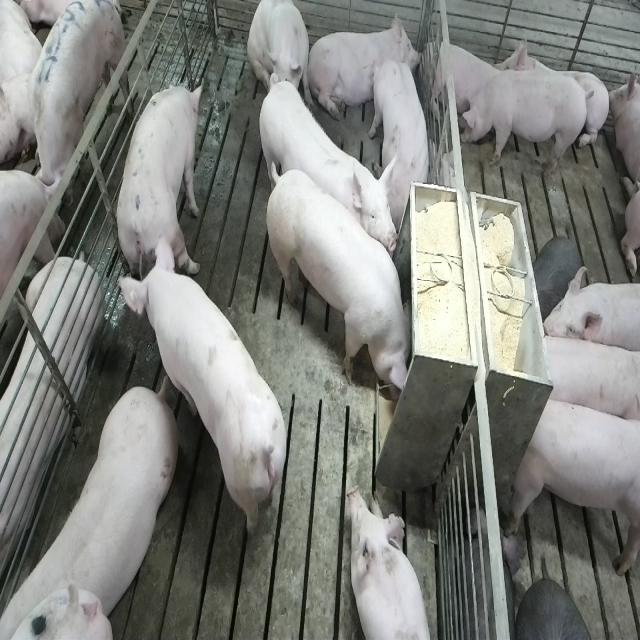Feeding: (270, 166, 421, 402)
Sitting: (247, 0, 312, 109)
Standing: (124, 242, 292, 548), (6, 376, 182, 634), (255, 75, 395, 261), (506, 392, 638, 583), (24, 0, 126, 222), (116, 81, 205, 292), (457, 66, 586, 179), (534, 331, 637, 428), (368, 58, 428, 219), (540, 267, 640, 359)
Sternal_lying: (499, 29, 608, 152), (347, 486, 433, 640), (313, 12, 421, 124), (426, 33, 500, 122), (608, 56, 640, 206)
